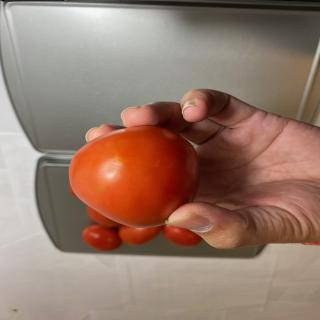Chilli: (68, 125, 201, 228)
Tomato: (82, 224, 121, 252), (162, 224, 202, 247), (118, 225, 162, 245), (86, 205, 120, 228)
